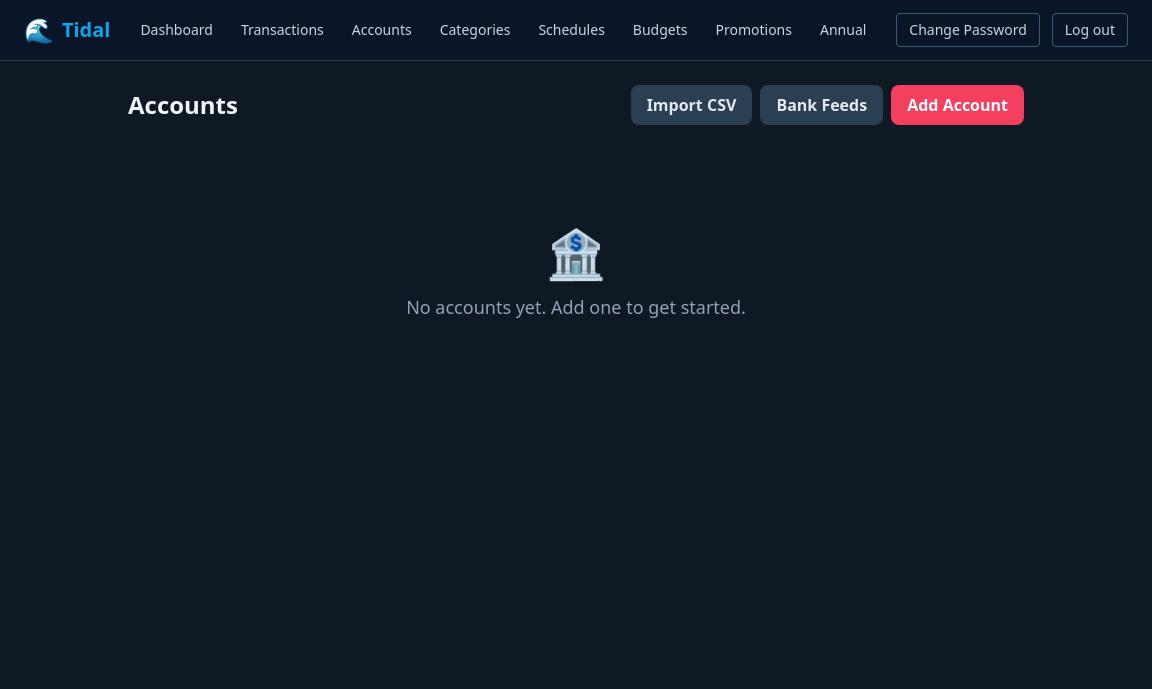
AccountsPage › shows the AddAccountForm when Add Account is clicked
Click the button "Add Account" at [958, 105], box [891, 85, 1024, 125]
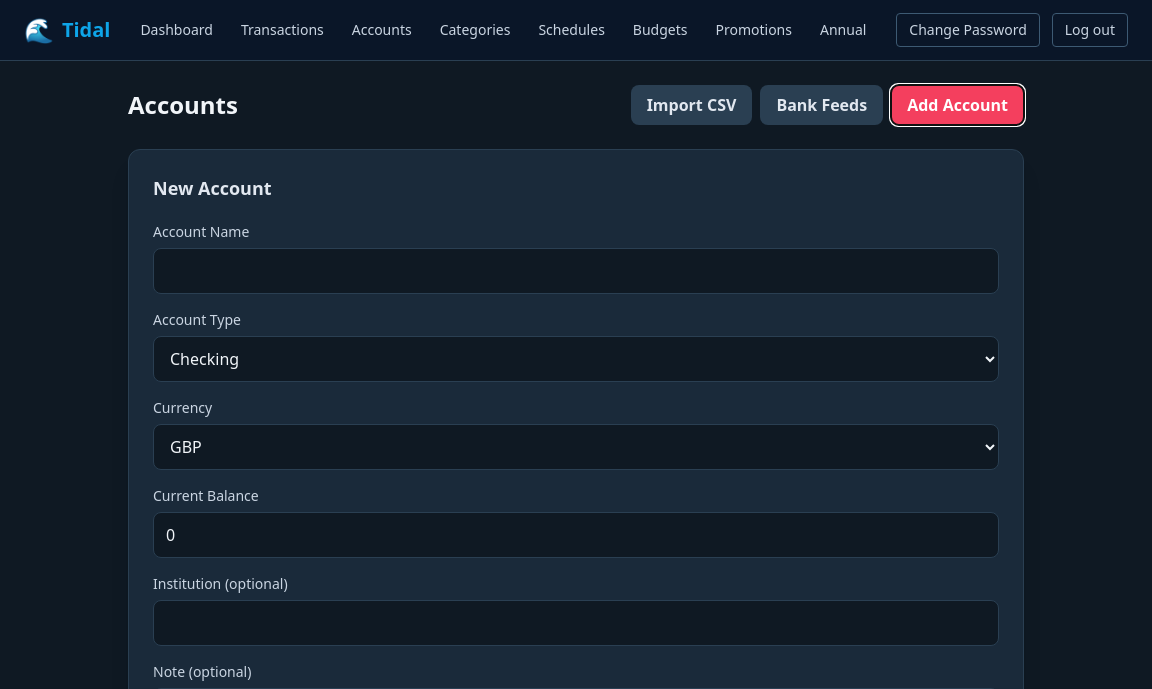
Expected: the field labelled "Account Name" is shown, [153, 248, 999, 294]
